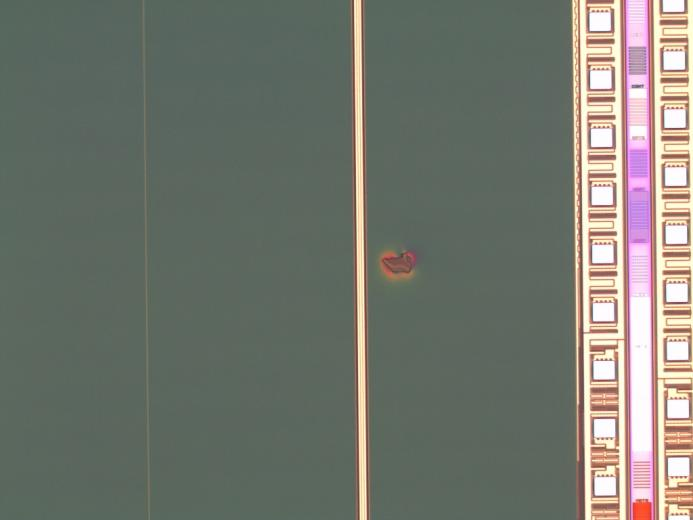PIQ PARTICLE: (377, 242, 421, 286)
